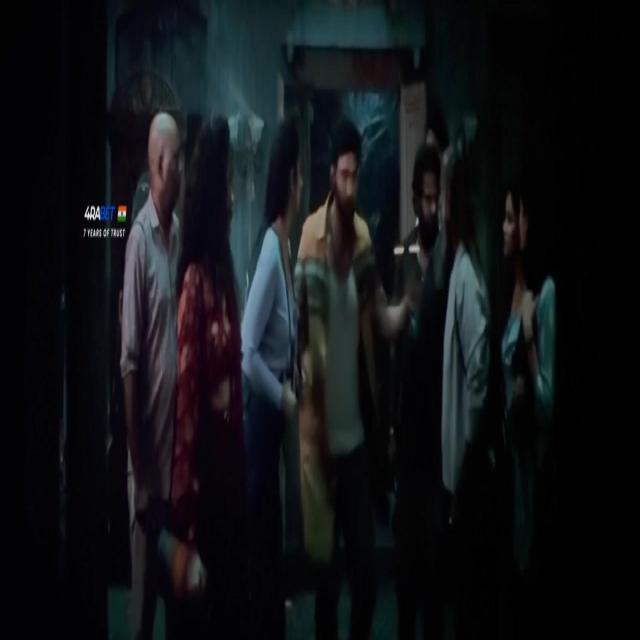4rabet: (81, 193, 130, 249)
